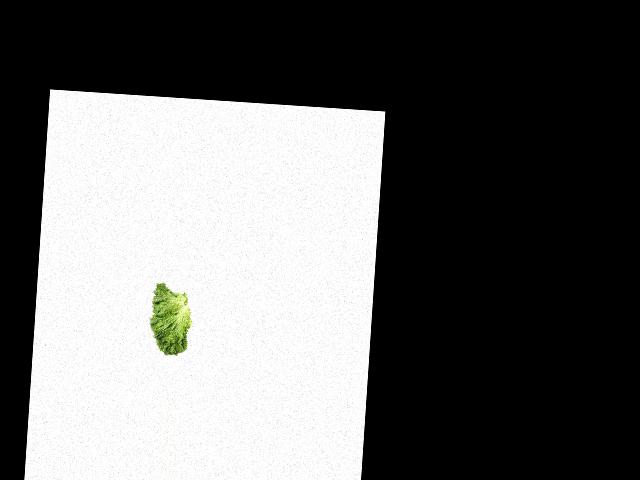lettuce: (142, 282, 197, 357)
